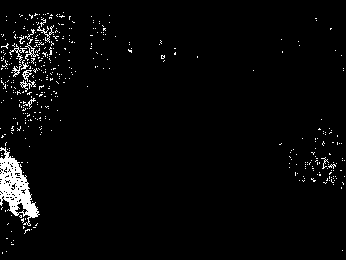person: (1, 146, 39, 235)
